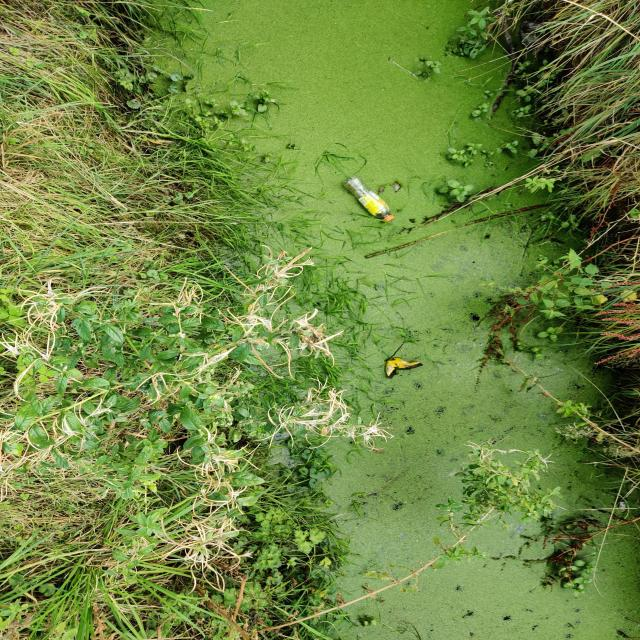litter: (337, 173, 406, 228), (379, 356, 430, 380)
